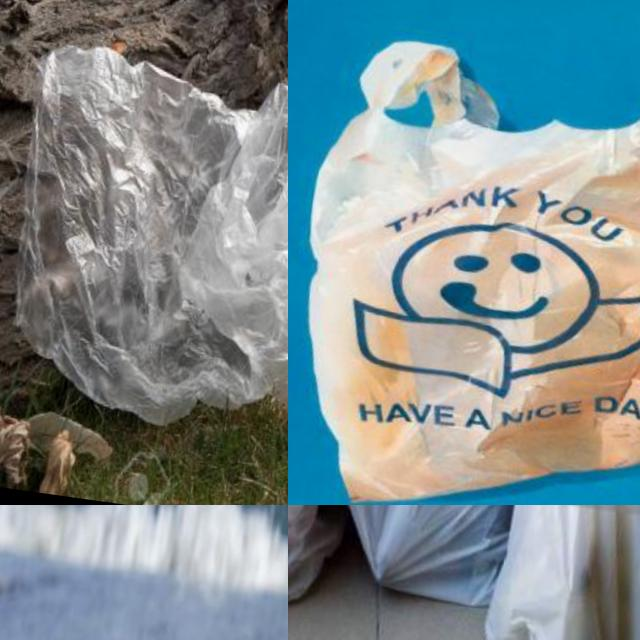sacola plástica: (288, 0, 640, 505), (0, 28, 288, 477), (300, 505, 579, 640), (465, 505, 640, 640), (288, 505, 383, 608)
